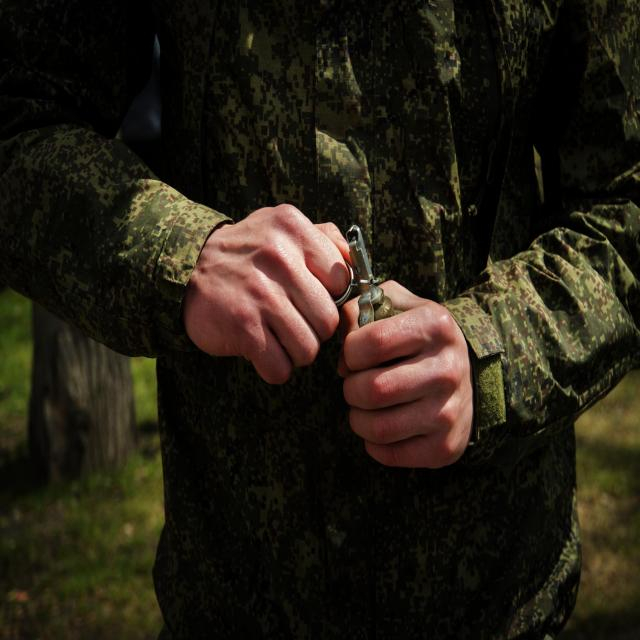grenade: (334, 225, 402, 331)
